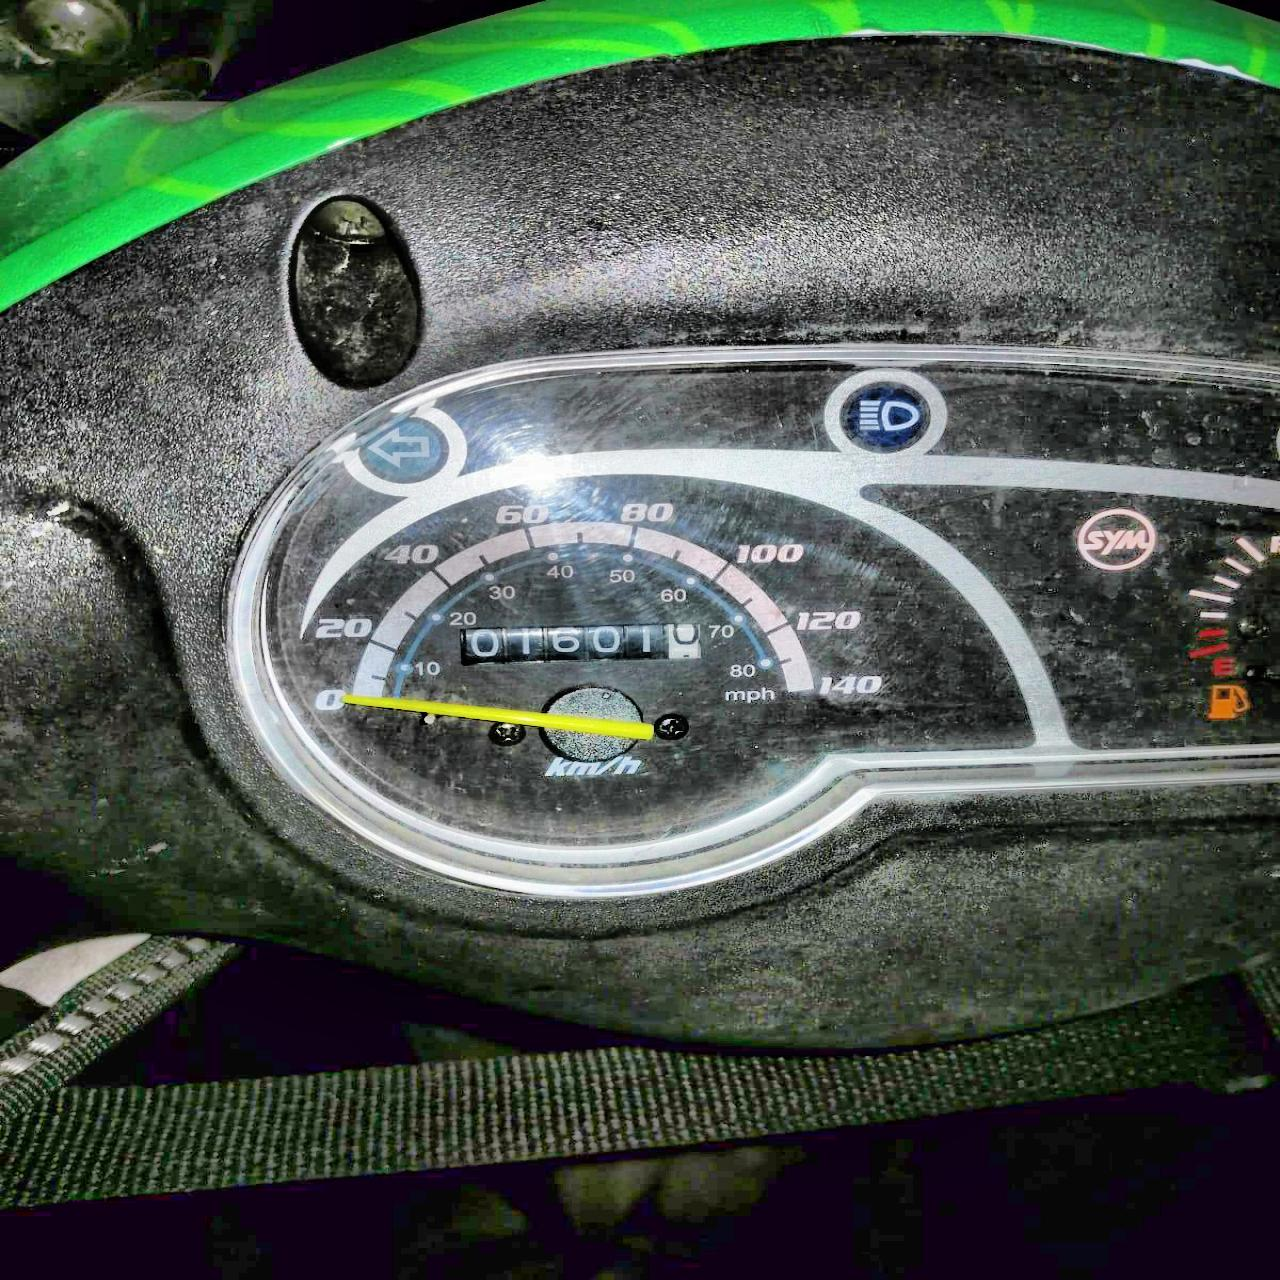0: (469, 628, 498, 658), (591, 624, 619, 652), (673, 621, 697, 646), (463, 610, 477, 624)
1: (635, 621, 655, 653), (517, 626, 536, 655)
6: (550, 622, 581, 652)
odometer: (459, 613, 707, 669)
